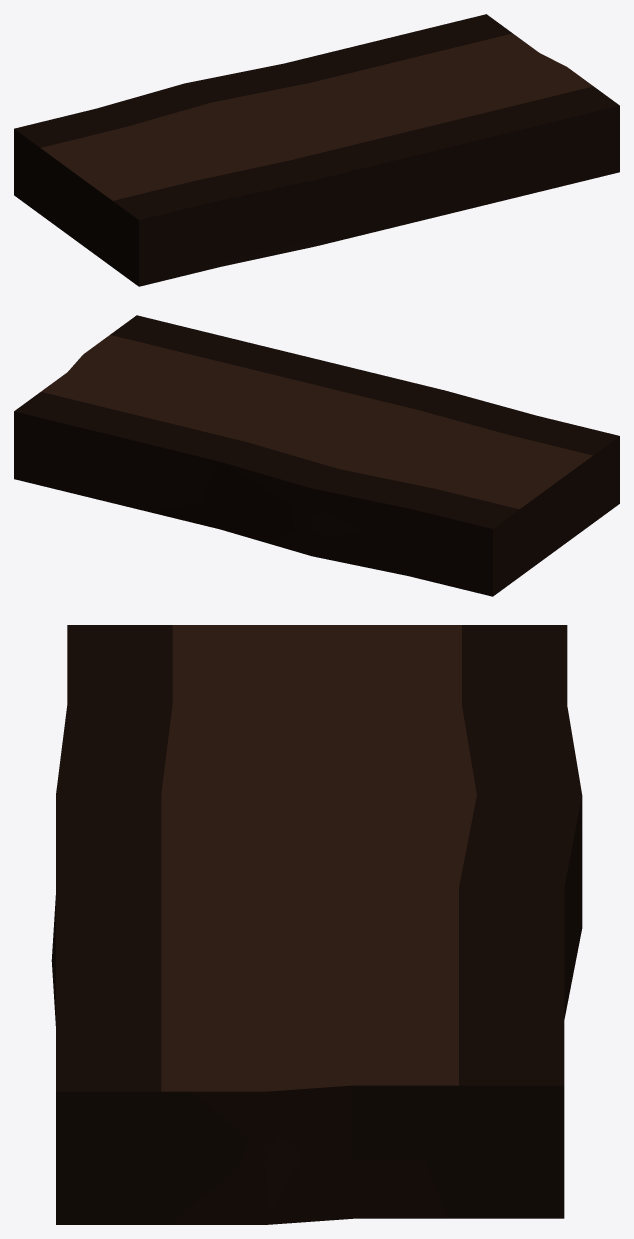
The model's file is floorterracomcaminho.FBX.
3 renders of one model, top to bottom at view 1: azimuth 30°, elevation 25°; view 2: azimuth 150°, elevation 25°; view 3: azimuth 270°, elevation 25°, orthographic. The views are drawn at different scales.
Parts seen in each view (by area): view 1: Object005; view 2: Object005; view 3: Object005.
Boxes of the visible parts, <box> form: Object005: <box>14,14,619,286</box>; Object005: <box>14,315,619,596</box>; Object005: <box>51,625,582,1224</box>.
Bounding box in the file's own units: 121 × 16.11 × 58.12.
